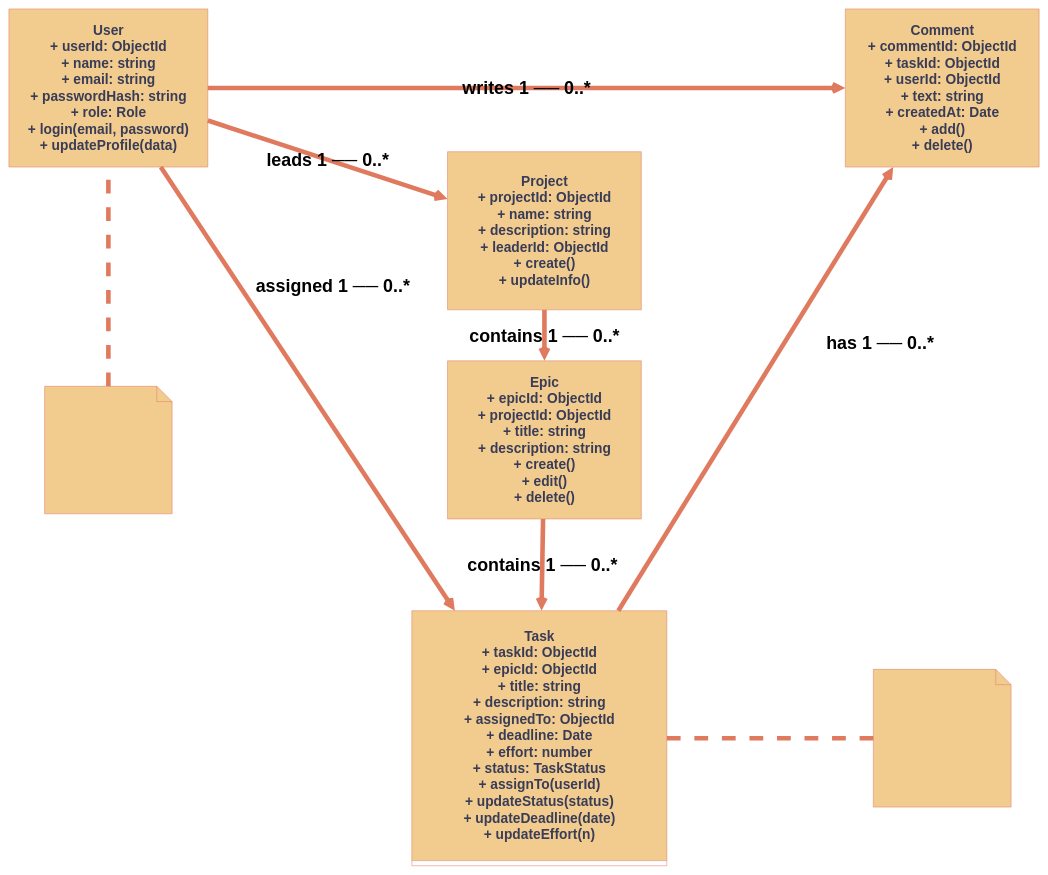
This 1048x875 diagram has some shape labels left out. Here are the shapes that lost their labels. From the top down, the centre of each, then its label:
(108,450): Role ADMIN LEADER MEMBER
(942,738): TaskStatus TODO DOING DONE
